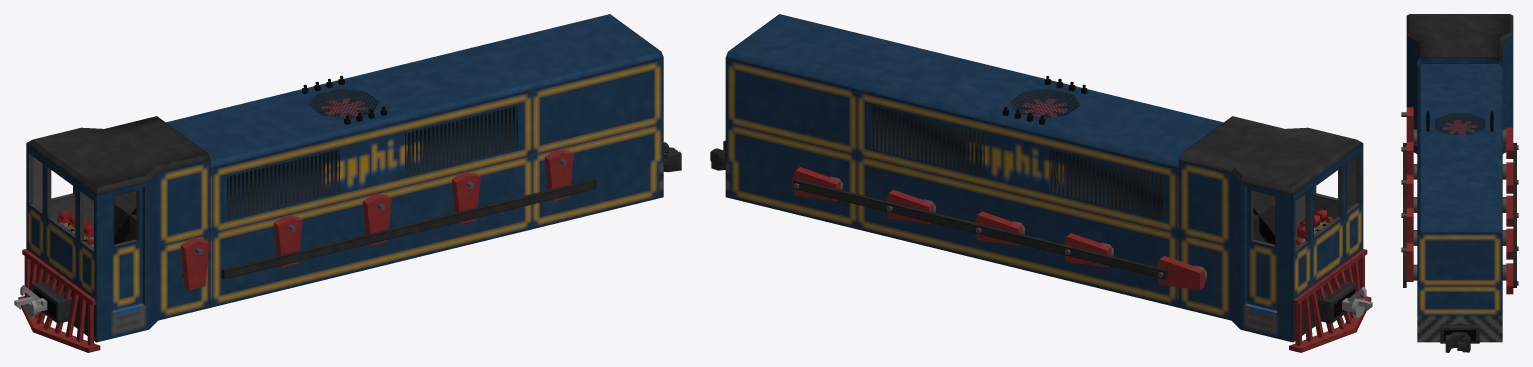
The model's file is sur_d2a.obj.
3 renders of one model, left to right at view 1: azimuth 30°, elevation 25°; view 2: azimuth 150°, elevation 25°; view 3: azimuth 270°, elevation 25°, orthographic. The views are drawn at different scales.
Visible parts, largest first — view 1: FRAME, FRAME.002, FRAME.005, FRAME.001, FRAME.003, SIDE_ROD_LEFT, COUPLER_ENGAGED_FRONT_1_TOGGLE_LABEL_Uncouple, FRAME.004, DOOR_2_EXTERNAL_TOGGLE_CG_driverdoorfrontleft, WHEEL_DRIVER_5, FRAME.007, WHEEL_DRIVER_3 (+4 smaller); view 2: FRAME, FRAME.002, FRAME.005, FRAME.003, FRAME.001, COUPLER_ENGAGED_FRONT_1_TOGGLE_LABEL_Uncouple, SIDE_ROD_RIGHT, FRAME.004, DOOR_1_EXTERNAL_TOGGLE_CG_driverdoorfrontright, WHEEL_DRIVER_5, FRAME.007, FRAME.008 (+4 smaller); view 3: FRAME, FRAME.005, FRAME.002, FRAME.007, WHEEL_DRIVER_3, WHEEL_DRIVER_1, WHEEL_DRIVER_5, WHEEL_DRIVER_2, WHEEL_DRIVER_4, FRAME.008, SIDE_ROD_RIGHT, COUPLER_ENGAGED_REAR_2_TOGGLE_LABEL_Uncouple (+3 smaller).
Part boxes in pixels (x1,y1,x2,y2): FRAME: (166, 14, 663, 307); FRAME.002: (26, 143, 210, 342); FRAME.005: (26, 116, 210, 194); FRAME.001: (227, 106, 517, 218); FRAME.003: (228, 106, 516, 218); SIDE_ROD_LEFT: (221, 179, 596, 279); COUPLER_ENGAGED_FRONT_1_TOGGLE_LABEL_Uncouple: (18, 249, 100, 352); FRAME.004: (28, 153, 136, 251); DOOR_2_EXTERNAL_TOGGLE_CG_driverdoorfrontleft: (112, 187, 142, 310); WHEEL_DRIVER_5: (114, 208, 209, 289); FRAME.007: (309, 89, 379, 118); WHEEL_DRIVER_3: (545, 149, 573, 201); FRAME: (725, 14, 1223, 307); FRAME.002: (1178, 143, 1363, 342); FRAME.005: (1179, 116, 1362, 194); FRAME.003: (872, 106, 1161, 218); FRAME.001: (871, 106, 1162, 218); COUPLER_ENGAGED_FRONT_1_TOGGLE_LABEL_Uncouple: (1289, 249, 1371, 352); SIDE_ROD_RIGHT: (793, 179, 1167, 279); FRAME.004: (1253, 153, 1360, 251); DOOR_1_EXTERNAL_TOGGLE_CG_driverdoorfrontright: (1247, 187, 1276, 310); WHEEL_DRIVER_5: (1157, 208, 1275, 289); FRAME.007: (1010, 89, 1079, 118); FRAME.008: (1010, 89, 1079, 118); FRAME: (1417, 64, 1502, 342); FRAME.005: (1406, 14, 1513, 60); FRAME.002: (1406, 35, 1513, 153); FRAME.007: (1435, 113, 1484, 134); WHEEL_DRIVER_3: (1401, 242, 1518, 294); WHEEL_DRIVER_1: (1401, 207, 1518, 259); WHEEL_DRIVER_5: (1401, 107, 1518, 158); WHEEL_DRIVER_2: (1401, 141, 1518, 193); WHEEL_DRIVER_4: (1401, 174, 1518, 226); FRAME.008: (1435, 113, 1484, 134); SIDE_ROD_RIGHT: (1513, 143, 1516, 287); COUPLER_ENGAGED_REAR_2_TOGGLE_LABEL_Uncouple: (1440, 324, 1479, 343).
Size of the model in its own units: 10.19 by 2.5 by 2.06.
Materials: 7 (7 with a texture image).
